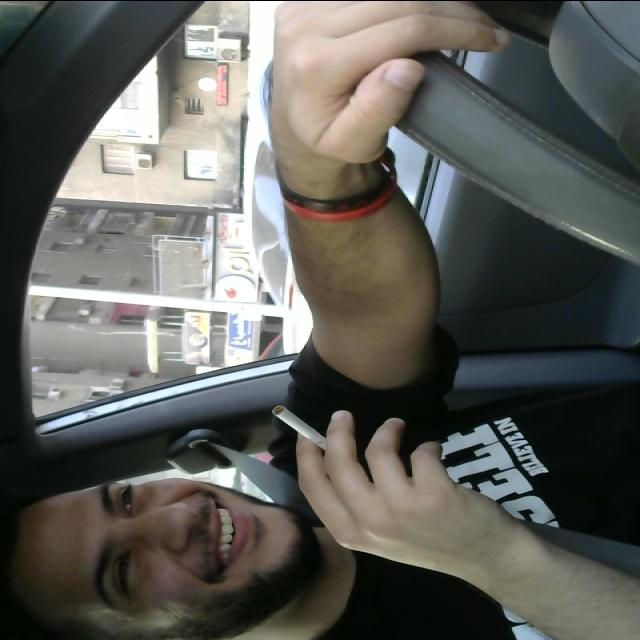smoking: (263, 394, 364, 472)
